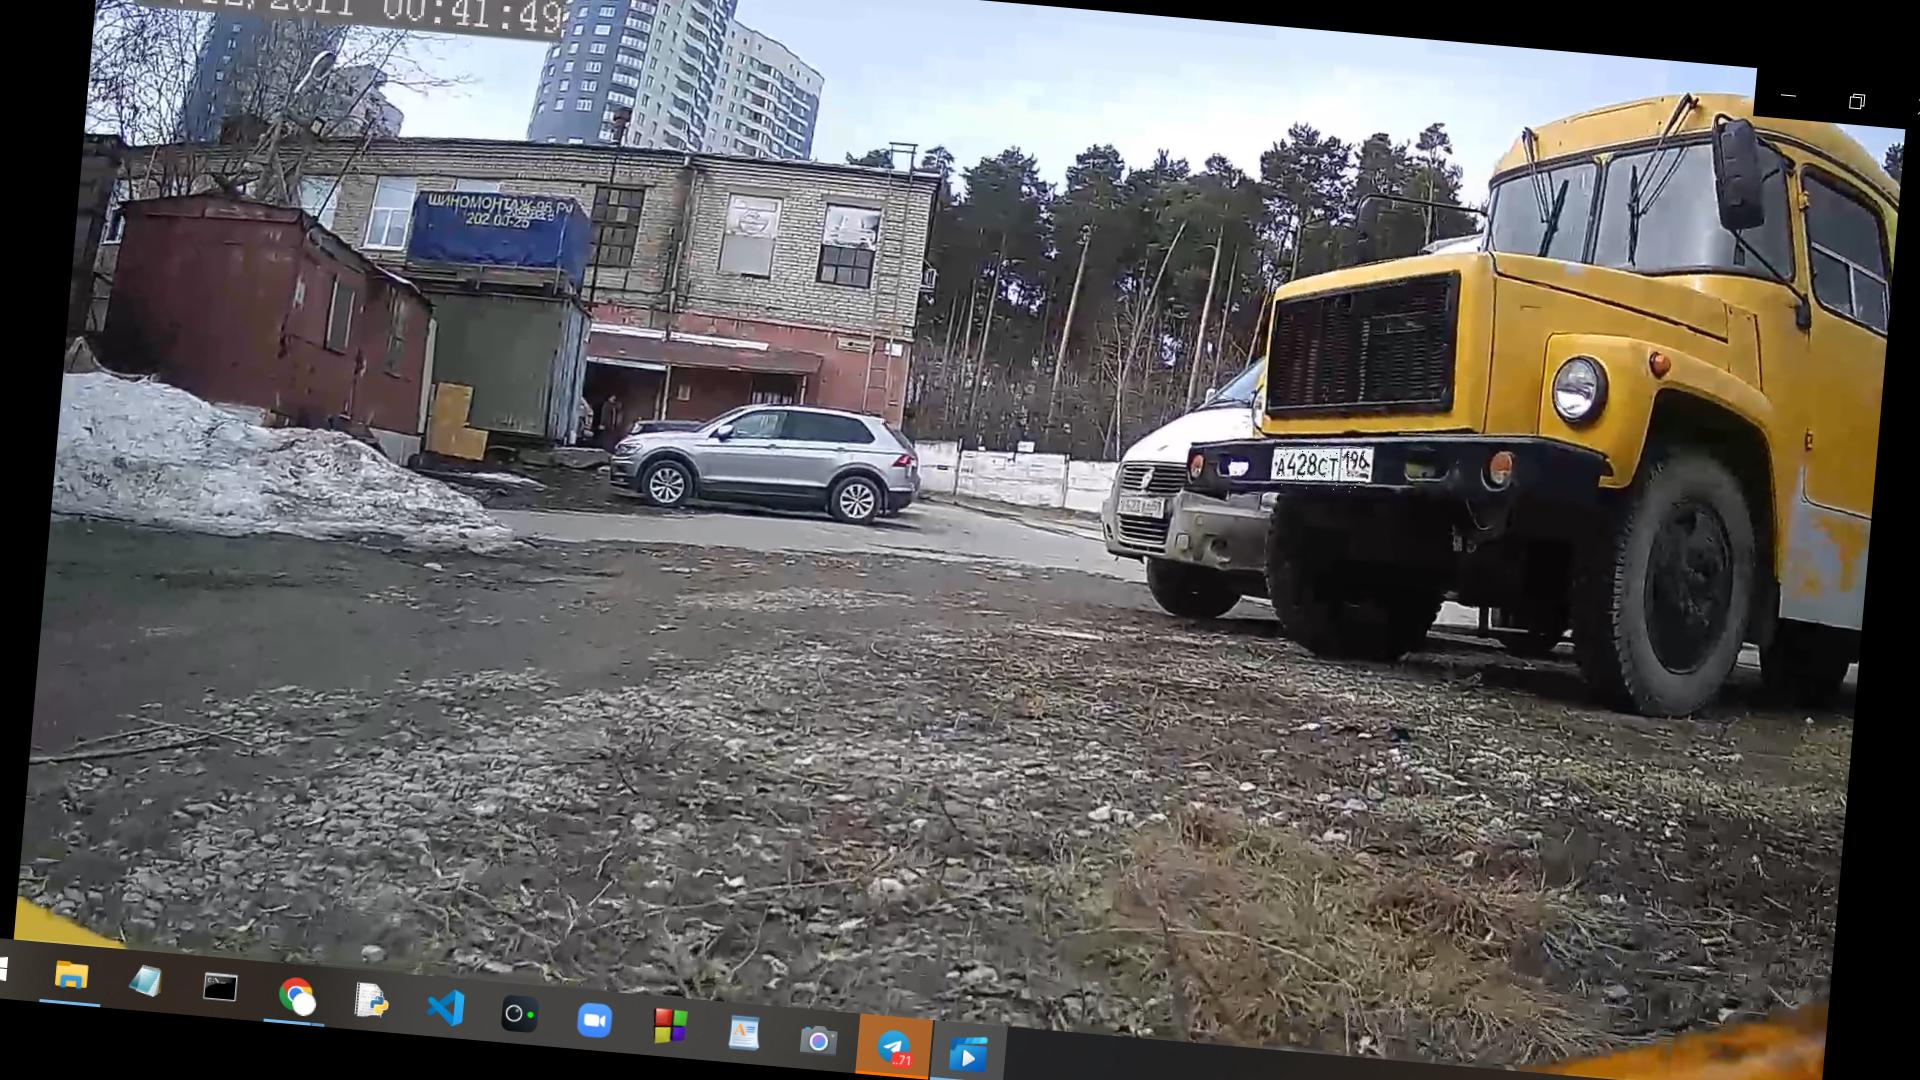plate: (1272, 441, 1371, 495), (1119, 494, 1162, 516)
